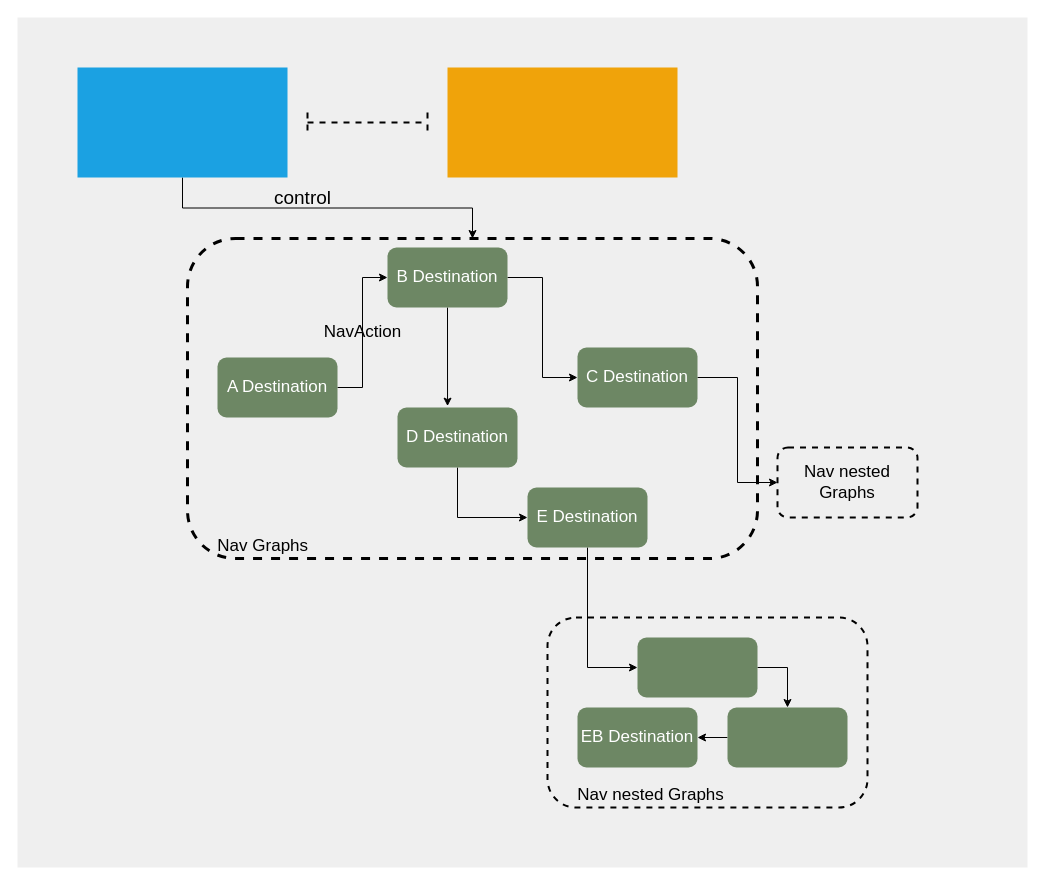
Some shapes in this 1044 by 884 pixel diagram are drawn without their labels. The shapes that lost their labels are listed below. From the top down, each one's centre as x and y in pixels, then its label:
At (x=182, y=122): "NavController".
At (x=562, y=122): "NavHost".
At (x=697, y=667): "EA Destination".
At (x=787, y=737): "EC Destination".
